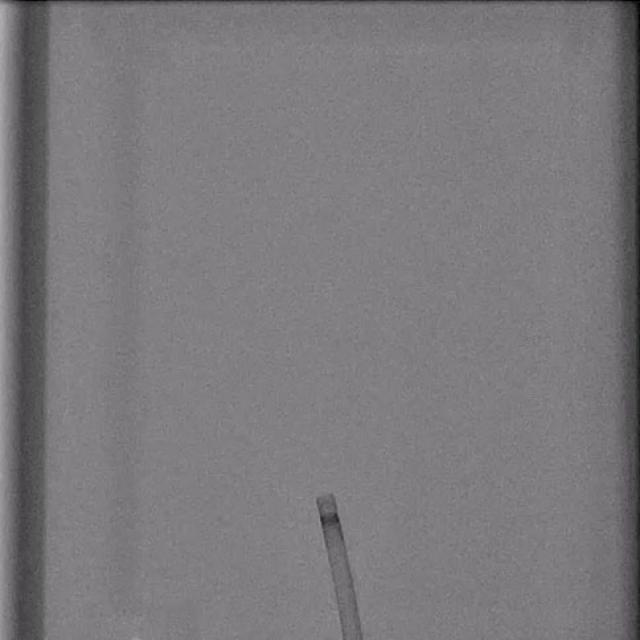entry: (343, 634, 363, 640)
marker: (319, 514, 341, 526)
tip: (316, 492, 334, 502)
